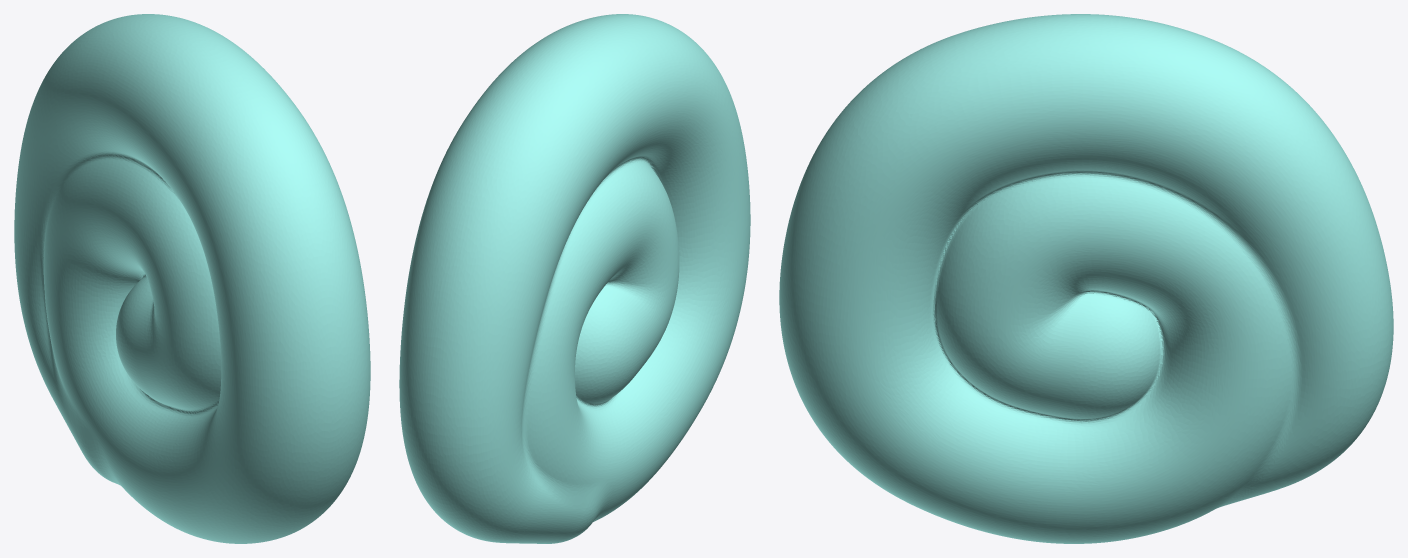
File: ZuriLollipop.obj
3 renders of one model, left to right at view 1: azimuth 30°, elevation 25°; view 2: azimuth 150°, elevation 25°; view 3: azimuth 270°, elevation 25°, orthographic. The views are drawn at different scales.
Parts seen in each view (by area): view 1: model_3; view 2: model_3; view 3: model_3.
Boxes of the visible parts, x1,y1,x2,y2 form: model_3: (14,14,370,543); model_3: (399,14,750,543); model_3: (779,14,1393,543).
Size of the model in its own units: 93.59 by 333 by 359.
1 material, 1 textured.
